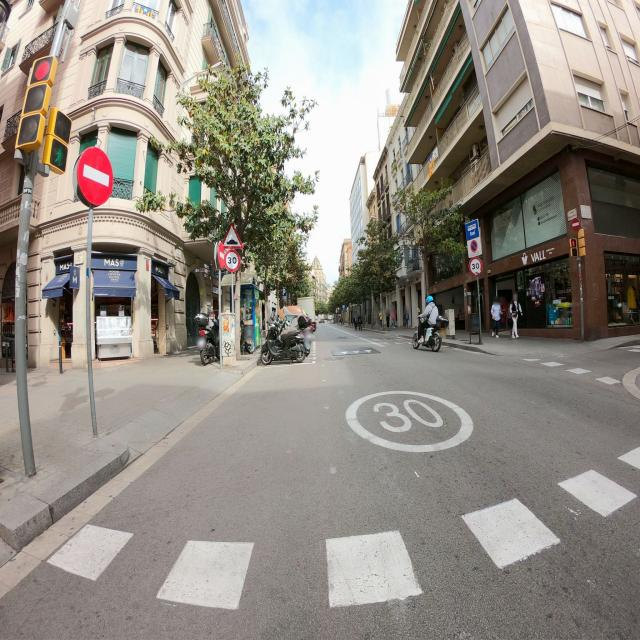bike: (260, 315, 306, 365), (197, 312, 222, 366), (413, 313, 443, 352)
